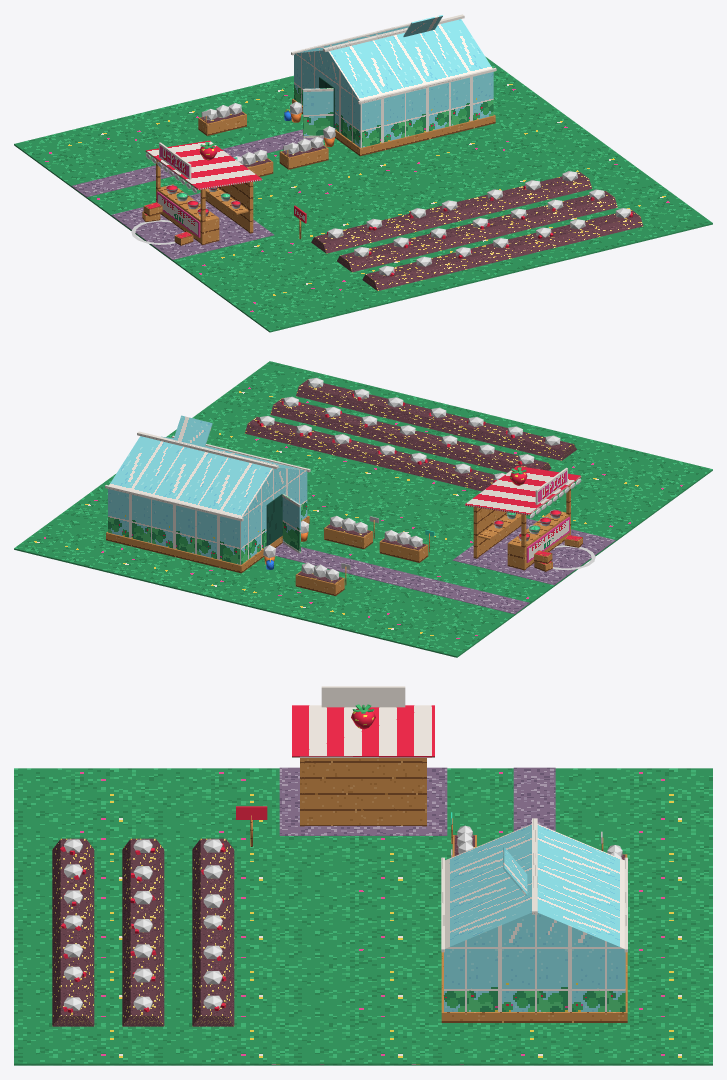
File: Garden Stop.fbx
The picture shows the model from 3 angles, top to bottom: view 1: azimuth 30°, elevation 25°; view 2: azimuth 150°, elevation 25°; view 3: azimuth 270°, elevation 25°; orthographic projection. The views are drawn at different scales.
Parts seen in each view (by area): view 1: Garden Stop ground, Garden Stop greenhouse glass, Garden Stop berry row 0, Garden Stop berry row 2, Garden Stop berry row 1, Garden Stop stand apron, Garden Stop stand roof, Garden Stop path, Garden Stop greenhouse kick, Garden Stop greenhouse door.001, Garden Stop stand counter, Garden Stop stand back (+6 smaller); view 2: Garden Stop ground, Garden Stop greenhouse glass, Garden Stop berry row 2, Garden Stop berry row 1, Garden Stop berry row 0, Garden Stop path, Garden Stop stand apron, Garden Stop stand roof, Garden Stop greenhouse kick, Garden Stop stand counter, Garden Stop stand back, Garden Stop greenhouse door.001 (+9 smaller); view 3: Garden Stop ground, Garden Stop greenhouse glass, Garden Stop stand back, Garden Stop stand roof, Garden Stop berry row 0, Garden Stop berry row 2, Garden Stop berry row 1, Garden Stop stand apron, Garden Stop path, Garden Stop greenhouse kick, Garden Stop stand header, Garden Stop roof vent.001.
Boxes of the visible parts, x1,y1,x2,y2 form: Garden Stop ground: (14,56,712,332); Garden Stop greenhouse glass: (294,19,493,147); Garden Stop berry row 0: (311,172,592,253); Garden Stop berry row 2: (362,209,643,290); Garden Stop berry row 1: (337,191,617,272); Garden Stop stand apron: (111,193,274,259); Garden Stop stand roof: (145,140,262,189); Garden Stop path: (71,129,323,197); Garden Stop greenhouse kick: (292,98,495,156); Garden Stop greenhouse door.001: (303,88,333,137); Garden Stop stand counter: (158,184,219,243); Garden Stop stand back: (205,182,248,231); Garden Stop ground: (14,361,712,657); Garden Stop greenhouse glass: (108,436,307,564); Garden Stop berry row 2: (296,379,576,460); Garden Stop berry row 1: (270,398,551,472); Garden Stop berry row 0: (244,417,493,491); Garden Stop path: (275,543,529,614); Garden Stop stand apron: (452,518,615,585); Garden Stop stand roof: (464,466,581,515); Garden Stop greenhouse kick: (106,515,309,573); Garden Stop stand counter: (507,511,568,569); Garden Stop stand back: (478,508,521,556); Garden Stop greenhouse door.001: (282,494,300,552); Garden Stop ground: (14,768,712,1065); Garden Stop greenhouse glass: (444,824,625,1011); Garden Stop stand back: (304,758,422,825); Garden Stop stand roof: (292,705,434,757); Garden Stop berry row 0: (192,838,234,1026); Garden Stop berry row 2: (52,838,94,1026); Garden Stop berry row 1: (122,838,164,1026); Garden Stop stand apron: (279,767,447,835); Garden Stop path: (513,767,555,831); Garden Stop greenhouse kick: (441,952,627,1022); Garden Stop stand header: (321,686,405,707); Garden Stop roof vent.001: (503,847,527,895).
Size of the model in its own units: 20.29 by 4.33 by 20.
